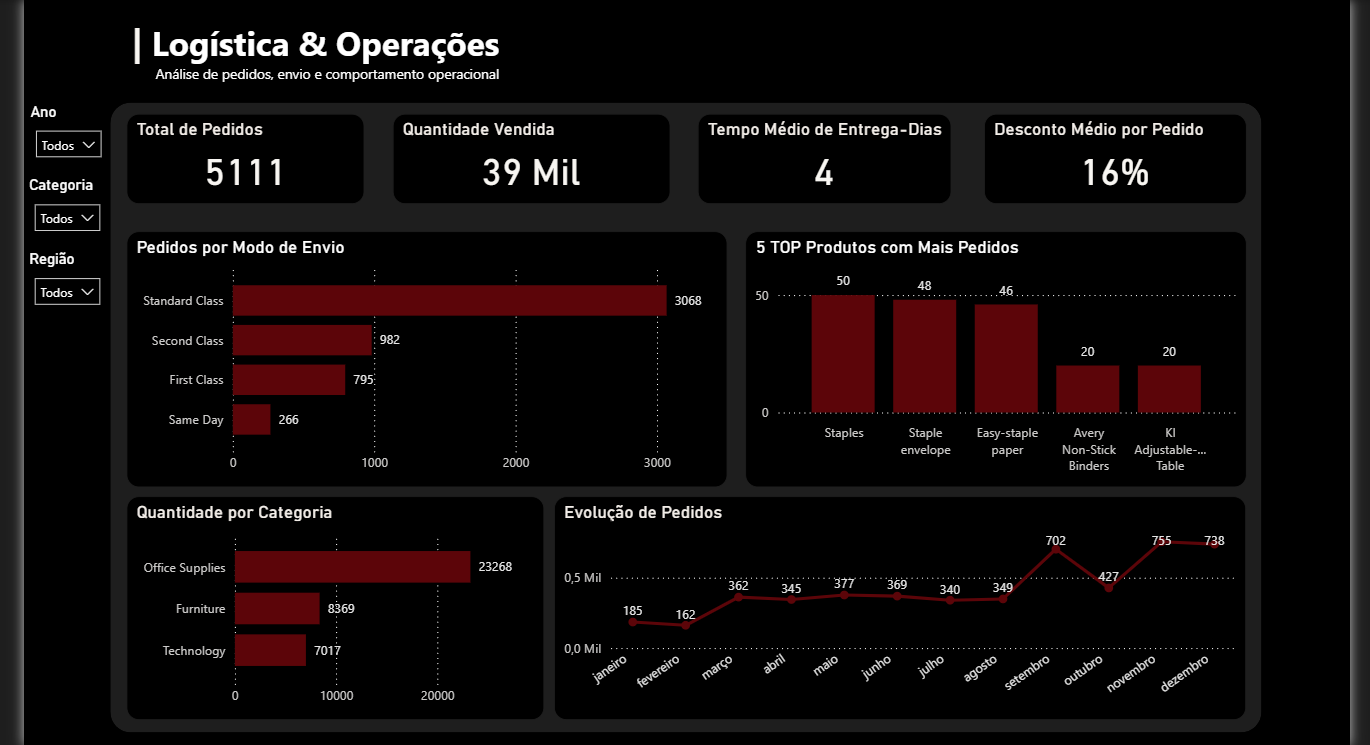

The page's visual inventory and layout, read from the dashboard file:
{"tool":"powerbi","page":{"name":"Logística & Operações ","canvas":[1280,720],"ordinal":2},"visuals":[{"type":"shape","box":[83.2,98.9,1111.1,608],"z":0},{"type":"card","title":"Tempo Médio de Entrega-Dias","fields":{"Values":["Orders.Tempo Médio Entrega"]},"box":[650.3,109.8,244.9,86.9],"z":1000},{"type":"card","title":"Total de Pedidos","fields":{"Values":["Orders.Total Orders"]},"box":[99.1,110.2,229.3,86.8],"z":2000},{"type":"card","title":"Quantidade Vendida","fields":{"Values":["Orders.Total Quantity"]},"box":[355.9,109.8,267.8,86.9],"z":3000},{"type":"clusteredBarChart","title":"Pedidos por Modo de Envio","fields":{"Category":["Orders.Ship Mode"],"Y":["Orders.Total Orders"]},"box":[98.9,223.2,580.3,247.3],"z":4000},{"type":"clusteredBarChart","title":"Quantidade por Categoria","fields":{"Y":["Orders.Total Quantity"],"Category":["Orders.Category"]},"box":[98.9,479,403,216],"z":5000},{"type":"lineChart","title":"Evolução de Pedidos","fields":{"Category":["Orders.Order Date.Variation.Hierarquia de datas.Mês"],"Y":["Orders.Total Orders"]},"box":[511.5,479,668.4,216],"z":6000},{"type":"textbox","box":[98.9,14.5,1160.6,84.5],"z":7000},{"type":"slicer","title":"Ano","fields":{"Values":["Orders.Order Date.Variation.Hierarquia de datas.Ano"]},"box":[1.2,98.9,83.2,71.2],"z":8000},{"type":"slicer","title":"Categoria","fields":{"Values":["Orders.Category"]},"box":[0,170.1,83.2,71.2],"z":9000},{"type":"slicer","title":"Região","fields":{"Values":["Orders.Region"]},"box":[0,241.3,83.2,71.2],"z":10000},{"type":"textbox","box":[121.9,56.7,413.8,42.2],"z":11000},{"type":"card","title":"Desconto Médio por Pedido","fields":{"Values":["Orders.Desconto Médio"]},"box":[926.5,109.8,253.4,86.9],"z":12000},{"type":"clusteredColumnChart","title":"5 TOP Produtos com Mais Pedidos","fields":{"Category":["Orders.Product Name"],"Y":["Orders.Total Orders"]},"box":[696.1,223.2,483.8,247.3],"z":13000}]}

Visuals, with their boxes on the page's 1280x720 design canvas (x1, y1, x2, y2). These are canvas units, not pixel positions in the 1370x745 screenshot, which may show the page scaled, cropped or inside an application window:
shape: x1=83, y1=99, x2=1194, y2=707
"Tempo Médio de Entrega-Dias" card: x1=650, y1=110, x2=895, y2=197
"Total de Pedidos" card: x1=99, y1=110, x2=328, y2=197
"Quantidade Vendida" card: x1=356, y1=110, x2=624, y2=197
"Pedidos por Modo de Envio" clusteredBarChart: x1=99, y1=223, x2=679, y2=470
"Quantidade por Categoria" clusteredBarChart: x1=99, y1=479, x2=502, y2=695
"Evolução de Pedidos" lineChart: x1=512, y1=479, x2=1180, y2=695
textbox: x1=99, y1=14, x2=1260, y2=99
"Ano" slicer: x1=1, y1=99, x2=84, y2=170
"Categoria" slicer: x1=0, y1=170, x2=83, y2=241
"Região" slicer: x1=0, y1=241, x2=83, y2=312
textbox: x1=122, y1=57, x2=536, y2=99
"Desconto Médio por Pedido" card: x1=926, y1=110, x2=1180, y2=197
"5 TOP Produtos com Mais Pedidos" clusteredColumnChart: x1=696, y1=223, x2=1180, y2=470
